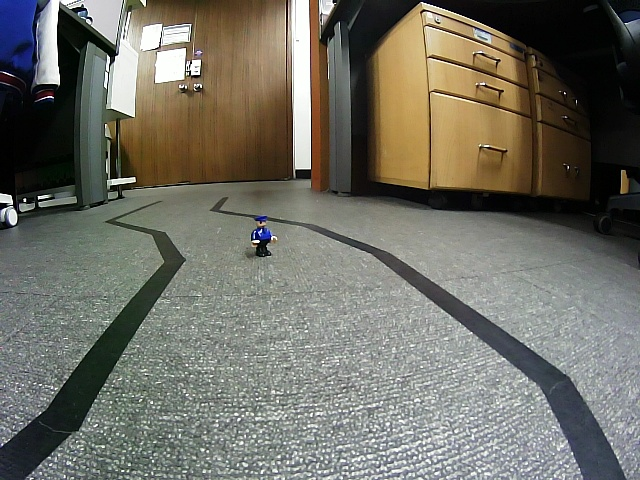person: (251, 216, 278, 258)
